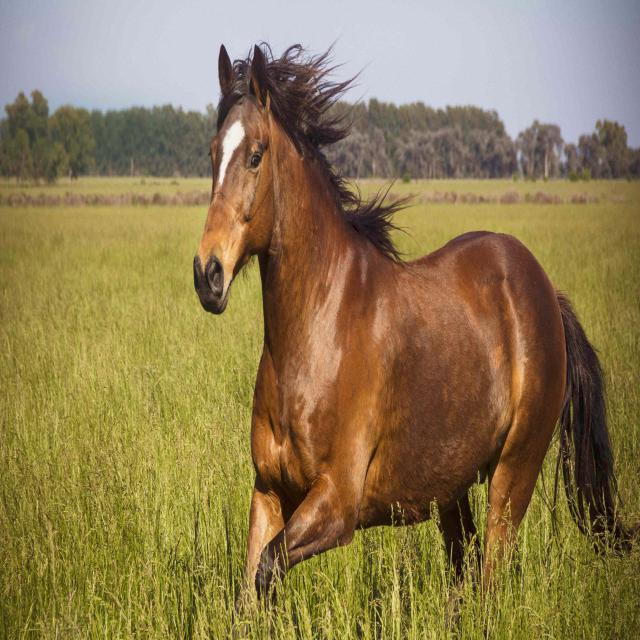horse: (194, 45, 617, 596)
